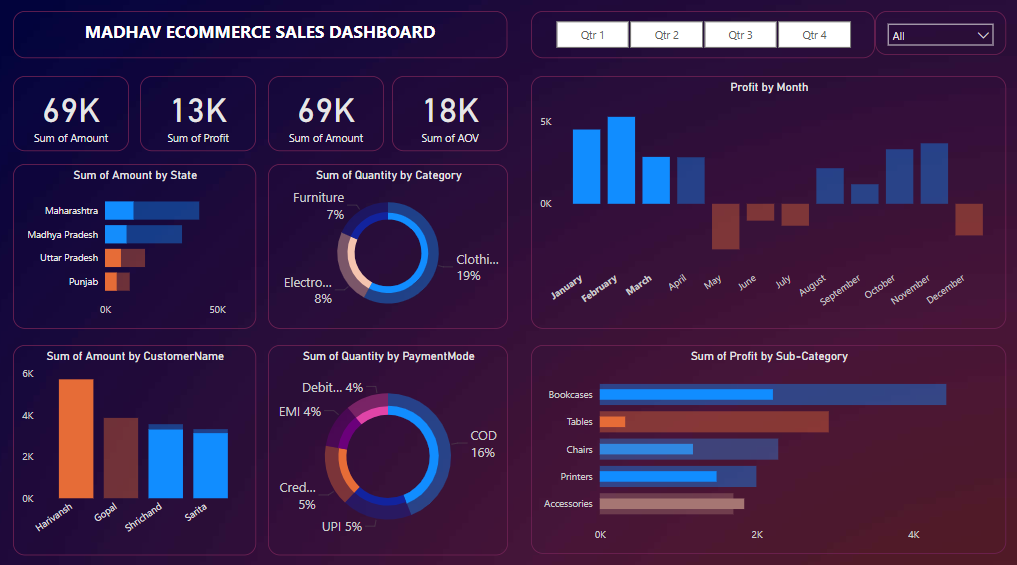

The page's visual inventory and layout, read from the dashboard file:
{"tool":"powerbi","page":{"name":"Page 1","canvas":[1280,720],"ordinal":0},"visuals":[{"type":"textbox","box":[22.5,16.2,617.5,58.8],"z":0},{"type":"columnChart","title":"Profit by Month","fields":{"Y":["Details.Profit"],"Category":["Orders.Order Date.Variation.Date Hierarchy.Month"]},"box":[670,97.5,593.8,316.2],"z":1000},{"type":"barChart","fields":{"Category":["Details.Sub-Category"],"Y":["Details.Profit"]},"box":[670,433.8,593.8,261.2],"z":2000},{"type":"donutChart","fields":{"Category":["Details.Category"],"Y":["Details.Quantity"]},"box":[341.2,207.5,300,206.2],"z":3000},{"type":"donutChart","fields":{"Category":["Details.PaymentMode"],"Y":["Details.Quantity"]},"box":[341.2,433.8,300,262.5],"z":4000},{"type":"card","fields":{"Values":["Details.Amount"]},"box":[22.5,97.5,145,93.8],"z":5000},{"type":"card","fields":{"Values":["Details.Profit"]},"box":[181.2,97.5,145,93.8],"z":6000},{"type":"card","fields":{"Values":["Details.Amount"]},"box":[341.2,97.5,145,93.8],"z":7000},{"type":"card","fields":{"Values":["Details.AOV"]},"box":[496.2,97.5,145,93.8],"z":8000},{"type":"barChart","fields":{"Category":["Orders.State"],"Y":["Details.Amount"]},"box":[22.5,207.5,303.8,206.2],"z":9000},{"type":"columnChart","fields":{"Category":["Orders.CustomerName"],"Y":["Details.Amount"]},"box":[22.5,433.8,303.8,262.5],"z":10000},{"type":"slicer","fields":{"Values":["Orders.Order Date.Variation.Date Hierarchy.Quarter"]},"box":[670.5,15.9,429.5,59.1],"z":11000},{"type":"slicer","fields":{"Values":["Orders.State"]},"box":[1100,16.2,163.8,55],"z":11001}]}

Visuals, with their boxes in screenshot pixels (x1, y1, x2, y2), scaled from the page's 1280x720 canvas onto the 1017x565 screenshot:
textbox: left=18, top=13, right=508, bottom=59
"Profit by Month" columnChart: left=532, top=77, right=1004, bottom=325
barChart - Details.Sub-Category x Details.Profit: left=532, top=340, right=1004, bottom=545
donutChart - Details.Category x Details.Quantity: left=271, top=163, right=509, bottom=325
donutChart - Details.PaymentMode x Details.Quantity: left=271, top=340, right=509, bottom=546
card - Details.Amount: left=18, top=77, right=133, bottom=150
card - Details.Profit: left=144, top=77, right=259, bottom=150
card - Details.Amount: left=271, top=77, right=386, bottom=150
card - Details.AOV: left=394, top=77, right=509, bottom=150
barChart - Orders.State x Details.Amount: left=18, top=163, right=259, bottom=325
columnChart - Orders.CustomerName x Details.Amount: left=18, top=340, right=259, bottom=546
slicer - Orders.Order Date.Variation.Date Hierarchy.Quarter: left=533, top=12, right=874, bottom=59
slicer - Orders.State: left=874, top=13, right=1004, bottom=56
